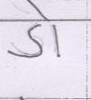e_matra: (24, 0, 51, 19)
